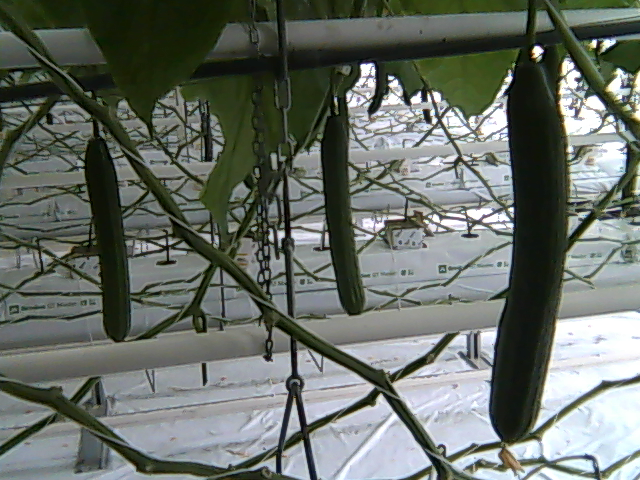concombre: (485, 43, 573, 476)
